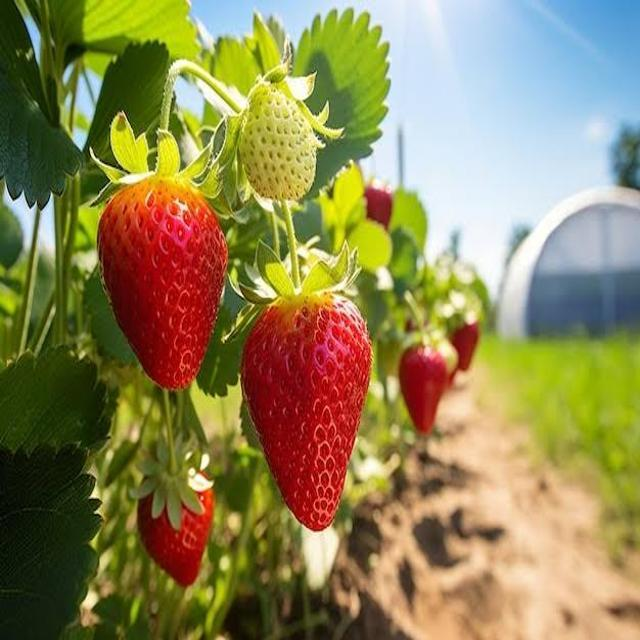Saludable: (242, 292, 377, 533), (98, 176, 227, 396), (224, 94, 329, 204), (137, 467, 215, 587), (400, 349, 457, 436), (446, 312, 480, 375)
